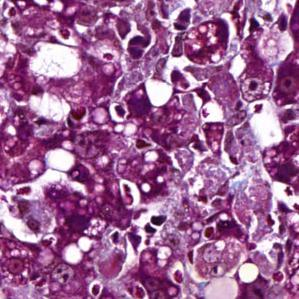ballooning: (0, 165, 89, 244)
